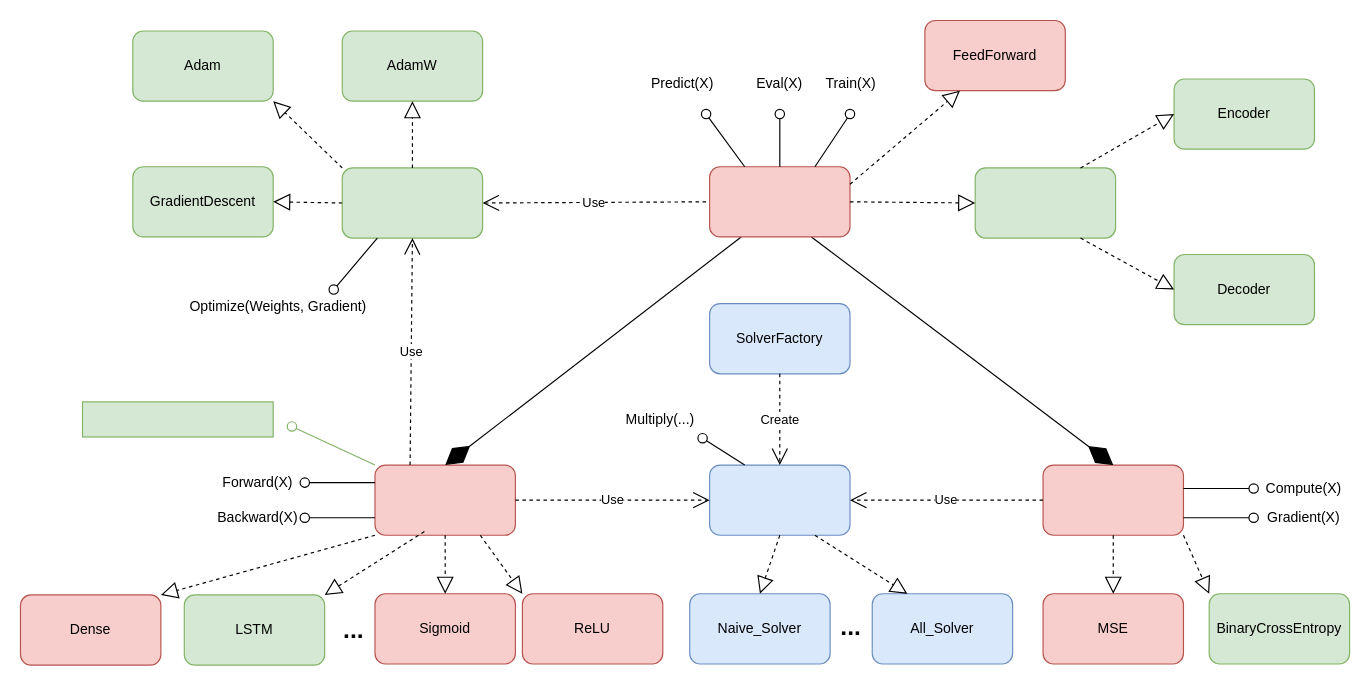
Some shapes in this 1370 by 686 pixel diagram are drawn without their labels. Each missing label, with the centre of its shape:
"Architecture" goes at point (779, 201).
"Autoencoder" goes at point (1045, 202).
"Layer" goes at point (444, 499).
"Loss" goes at point (1112, 499).
"Matrix_Solver" goes at point (779, 499).
"Optimizer" goes at point (412, 202).
"WeightInitialization(Technique)" goes at point (177, 419).
